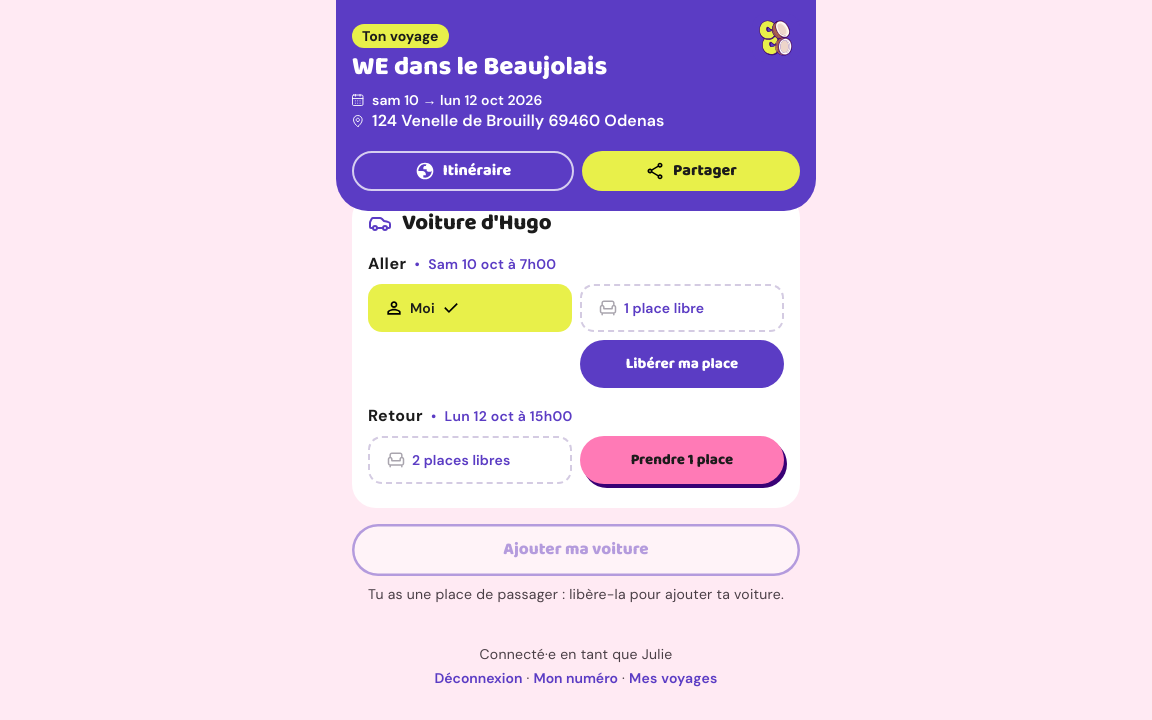
Test case: Page voyage › pop-in « C’est tout bon » : sans point de RDV, pas de ligne d’adresse
This screenshot has width=1152, height=720.
(page scrolled)
Click the button "Prendre 1 place".
click(682, 460)  # box [580,436,784,484]
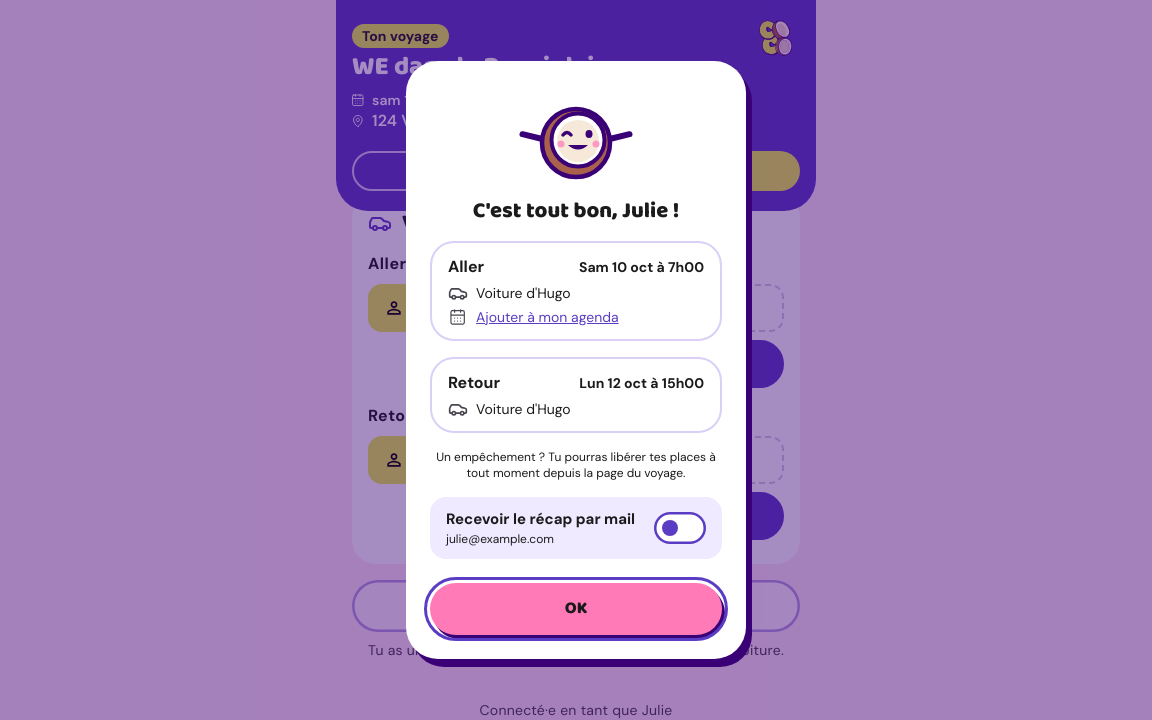
Expected: the element "Aller" does not show "Gare Part-Dieu", [430,241,722,341]
Expected: the link "Ajouter à mon agenda" is shown, [476,307,619,327]
